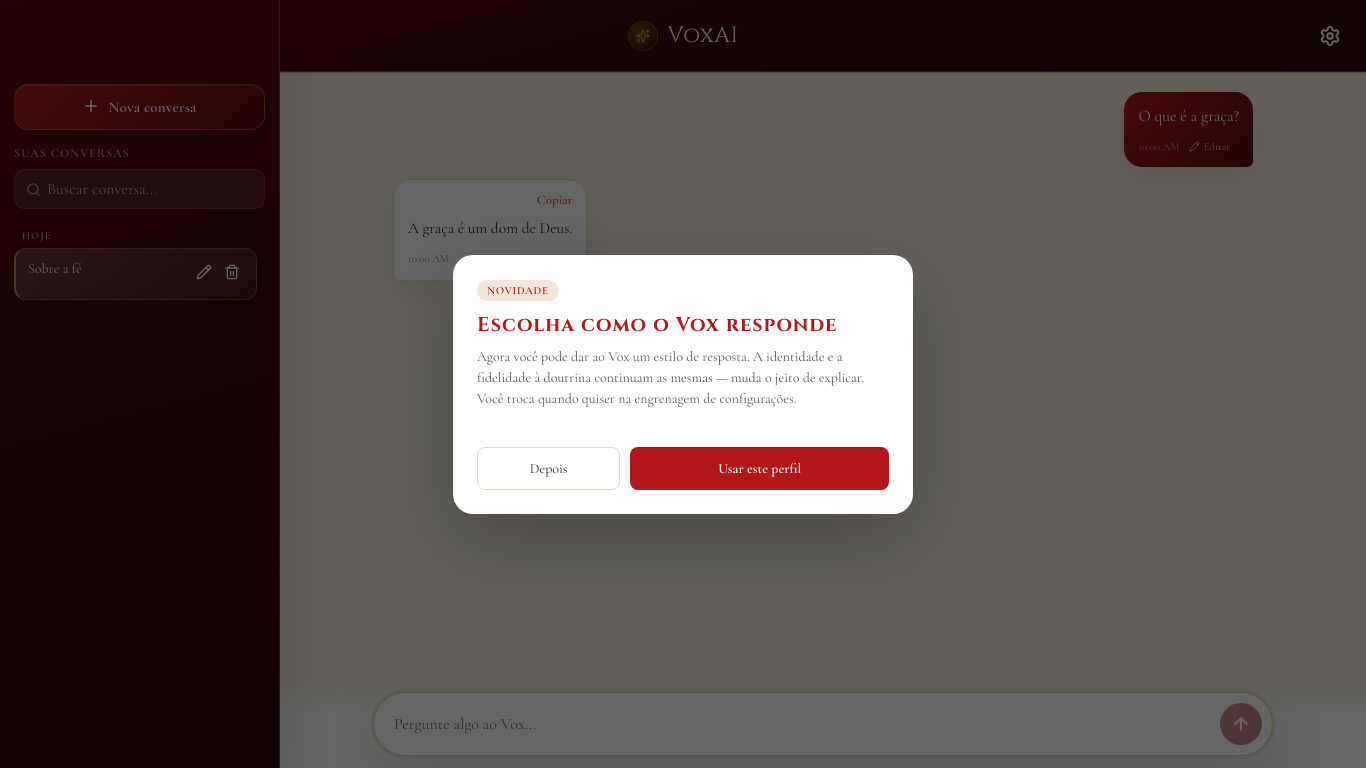
Test: Vox › perfis de resposta › points at the gear right after the intro is dismissed
Click the button "Depois".
click(549, 468)  # box 477,446 -> 620,490
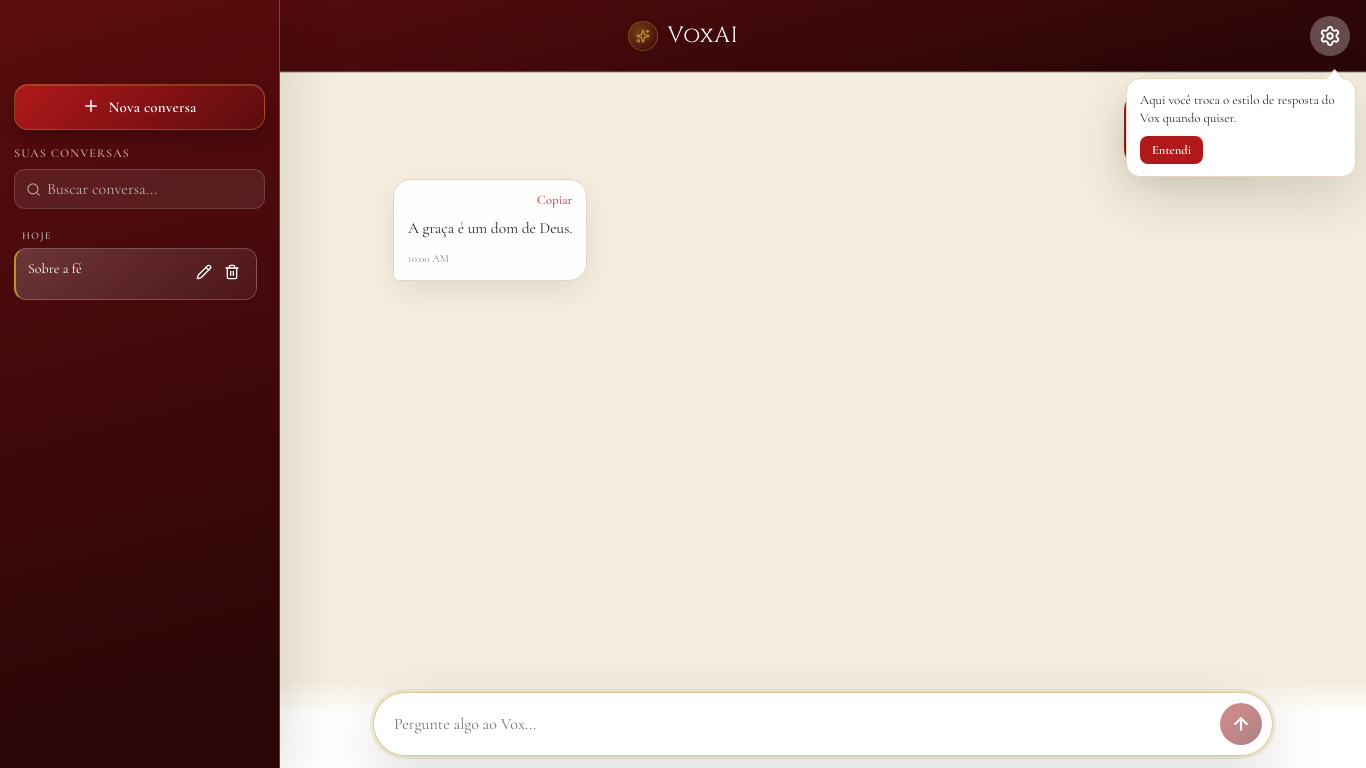
Expected: the text "Aqui você troca o estilo de resposta do Vox quando quiser." is shown, 1140,91 -> 1342,127
Click the button "Entendi".
click(1172, 150)  # box 1140,136 -> 1203,164
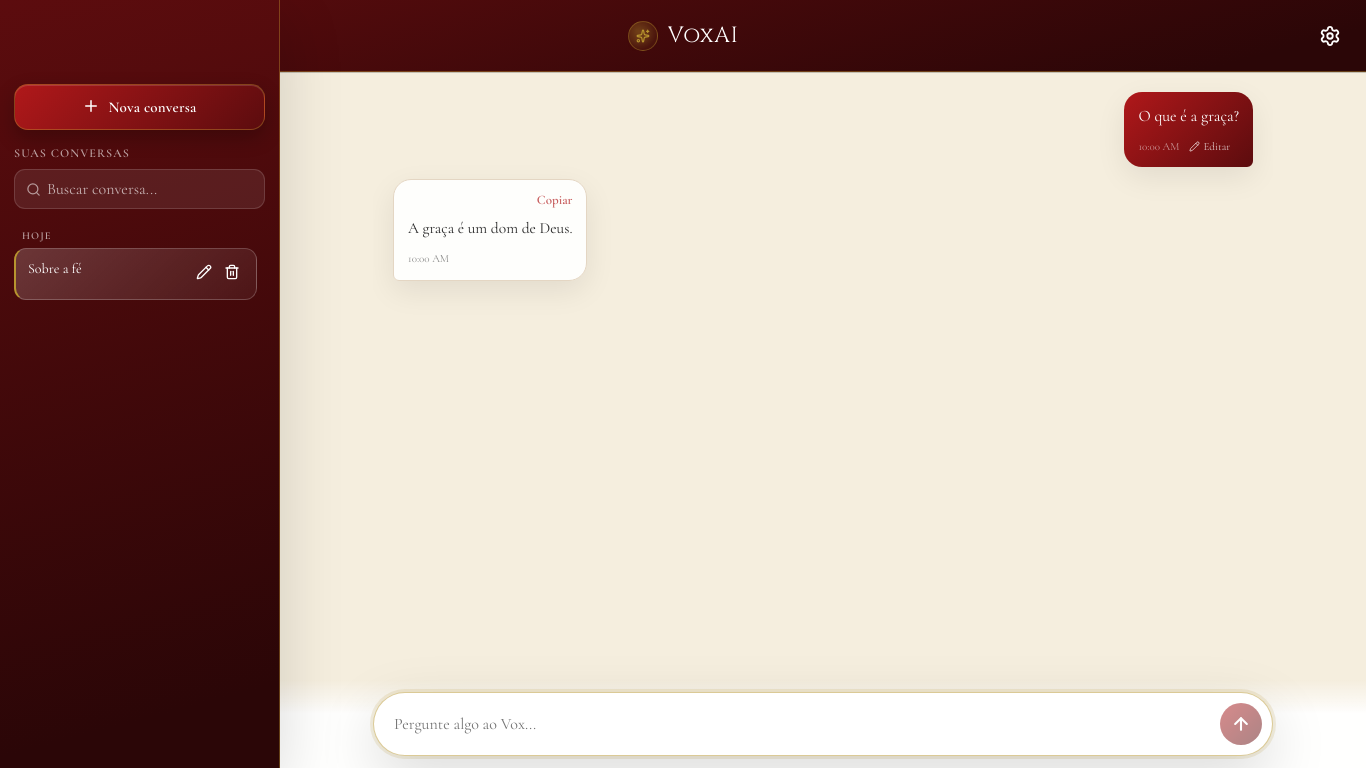
Expected: the text "Aqui você troca o estilo de resposta" is gone
